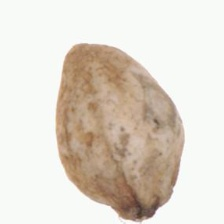L1: (61, 39, 94, 69), (113, 204, 163, 222)
L2: (54, 42, 185, 221)
